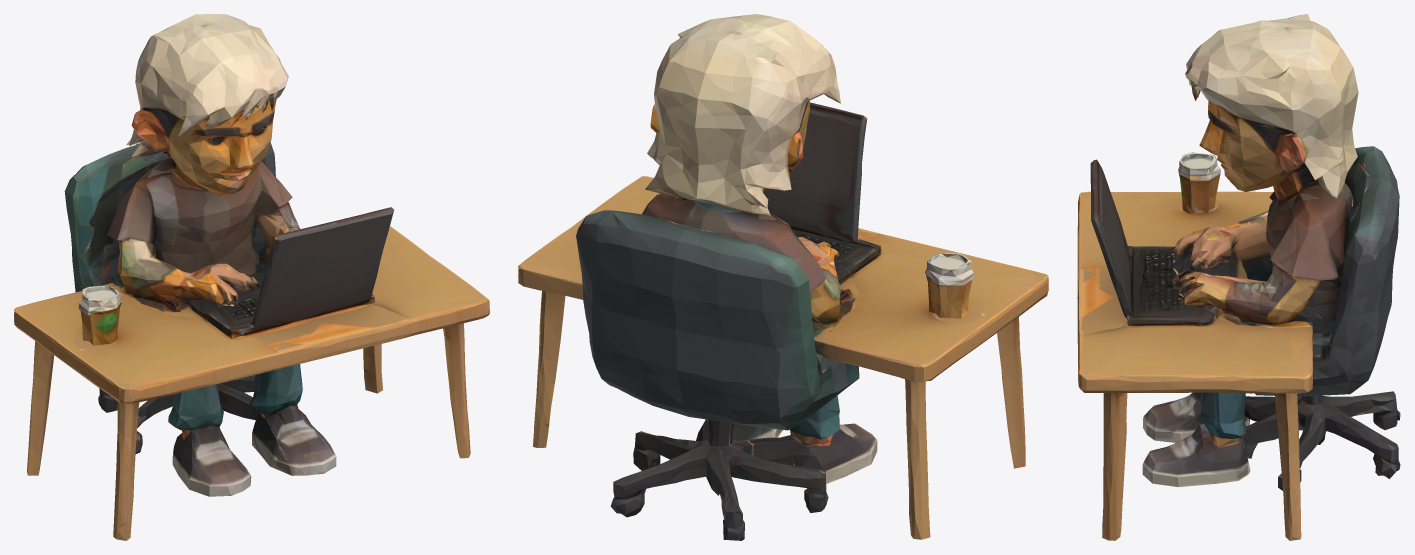
Rendered from spanol-model.fbx.
3 renders of one model, left to right at view 1: azimuth 30°, elevation 25°; view 2: azimuth 150°, elevation 25°; view 3: azimuth 270°, elevation 25°, orthographic. The views are drawn at different scales.
Visible parts, largest first — view 1: temp; view 2: temp; view 3: temp.
Boxes of the visible parts, x1=… form: temp: x1=14, y1=14, x2=489, y2=540; temp: x1=518, y1=14, x2=1048, y2=540; temp: x1=1077, y1=14, x2=1400, y2=540.
Bounding box in the file's own units: 189 × 200 × 138.
Materials: 1 (1 with a texture image).
